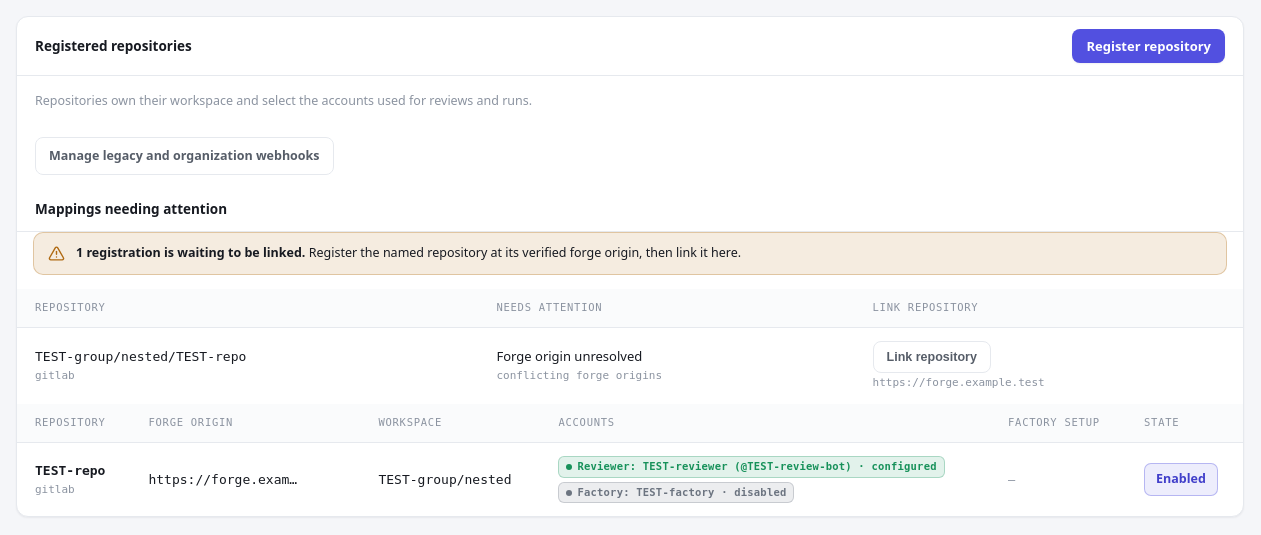
Test: Repository registry › names the pending registration and links only a matching repository
This screenshot has width=1261, height=535.
Click the button "Link repository": (932, 356) [872,340,991,372]
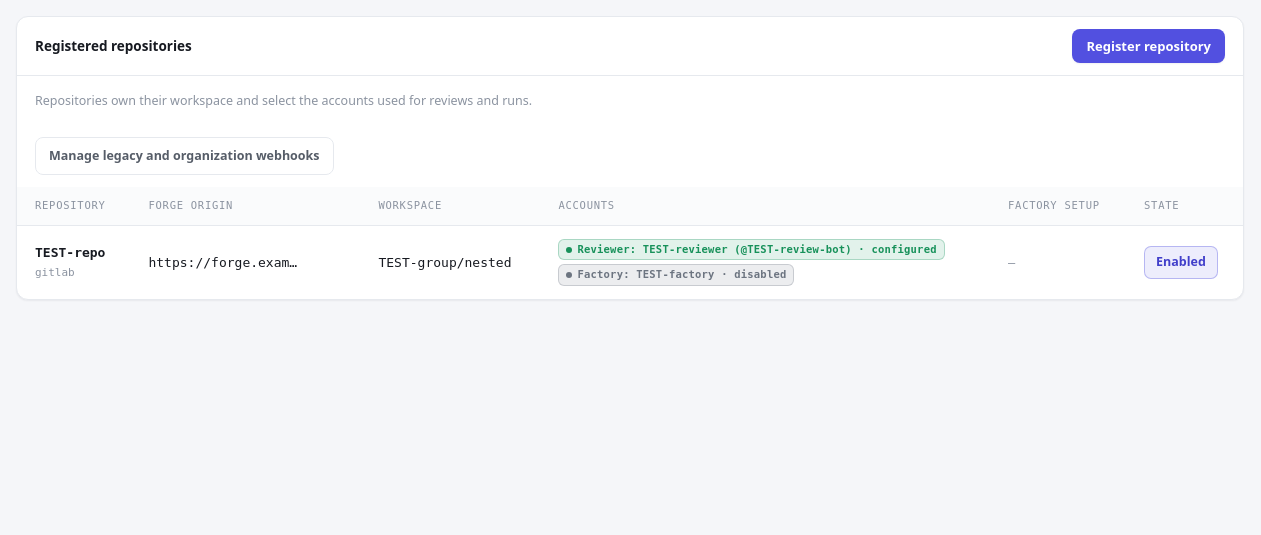
Result: the column heading "Link repository" is gone
